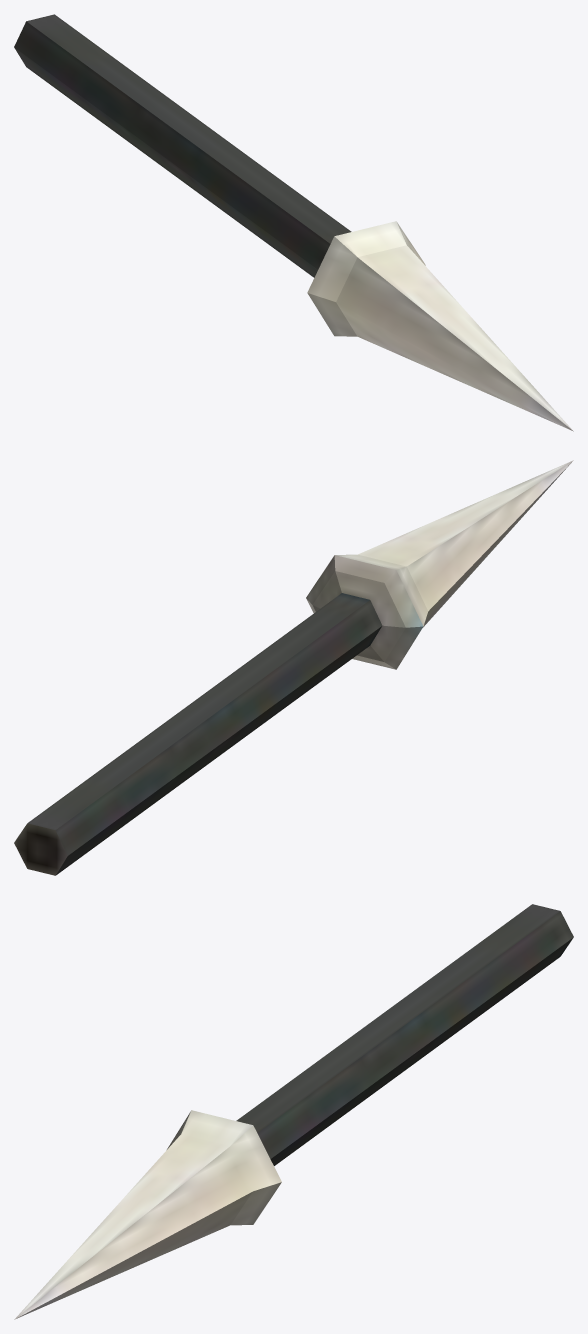
The model's file is javelin.FBX.
3 renders of one model, top to bottom at view 1: azimuth 30°, elevation 25°; view 2: azimuth 150°, elevation 25°; view 3: azimuth 330°, elevation 25°, orthographic.
Visible parts, largest first — view 1: 对象001; view 2: 对象001; view 3: 对象001.
Boxes of the visible parts, <box> form: 对象001: <box>14,14,573,431</box>; 对象001: <box>14,460,573,875</box>; 对象001: <box>14,904,573,1319</box>.
Bounding box in the file's own units: 14.73 × 11.93 × 115.
